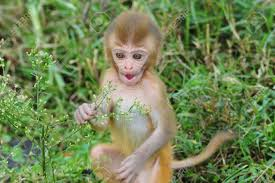monkey: (84, 14, 192, 182)
